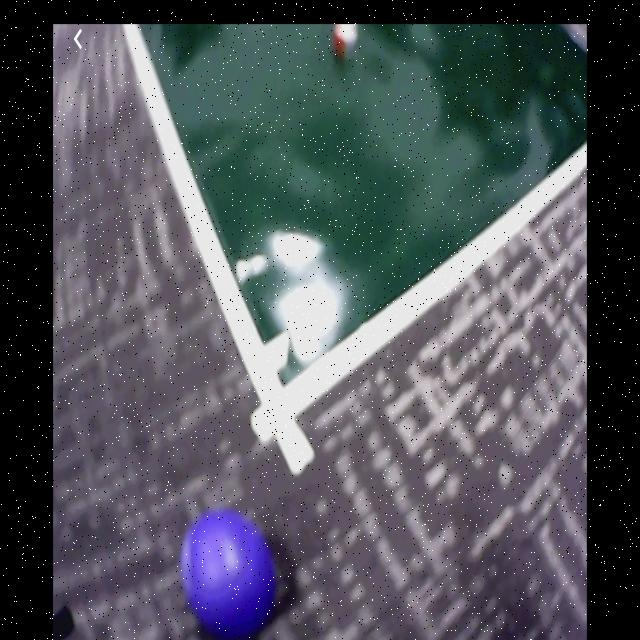ball: (184, 511, 273, 637)
